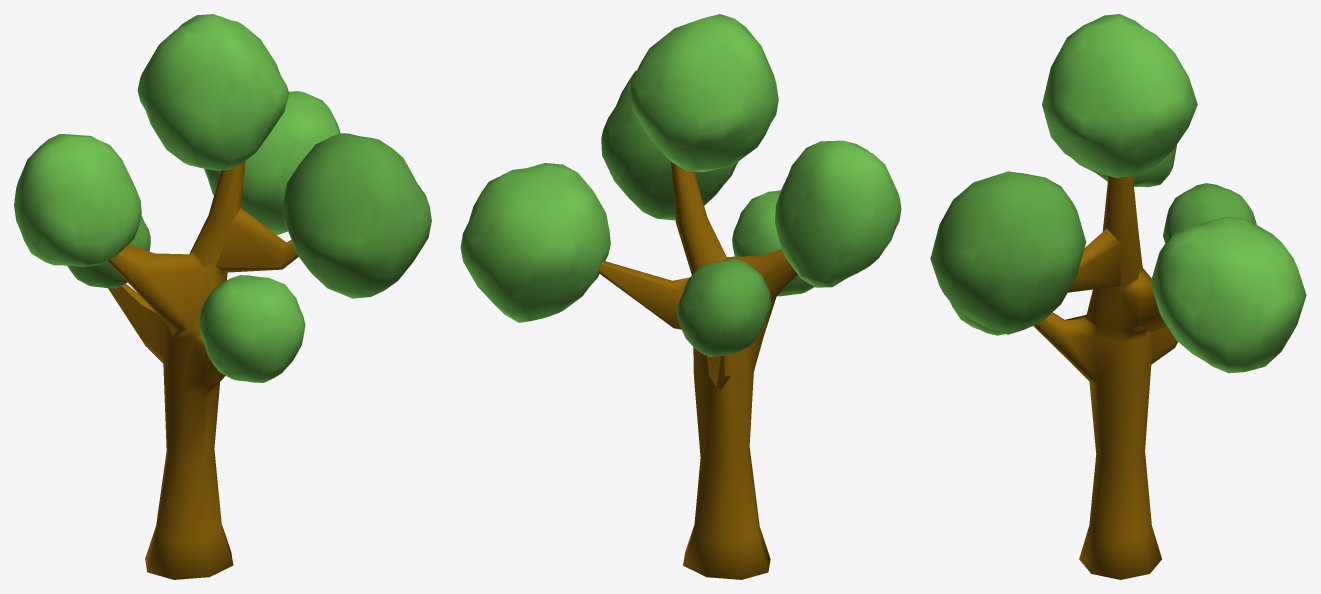
File: tree_2_2_base.fbx
3 renders of one model, left to right at view 1: azimuth 30°, elevation 25°; view 2: azimuth 150°, elevation 25°; view 3: azimuth 270°, elevation 25°, orthographic. The views are drawn at different scales.
Parts seen in each view (by area): view 1: pCylinder1, pCube1, pCube5, pCube3, pCube4, pCube2, pCube6; view 2: pCylinder1, pCube2, pCube5, pCube3, pCube6, pCube1, pCube4; view 3: pCylinder1, pCube1, pCube5, pCube2, pCube6, pCube3.
Boxes of the visible parts, bbox=[...] form: pCylinder1: bbox=[107, 161, 298, 579]; pCube1: bbox=[282, 133, 431, 298]; pCube5: bbox=[137, 14, 289, 170]; pCube3: bbox=[14, 134, 141, 267]; pCube4: bbox=[199, 275, 305, 382]; pCube2: bbox=[204, 91, 340, 235]; pCube6: bbox=[67, 215, 150, 288]; pCylinder1: bbox=[598, 161, 797, 579]; pCube2: bbox=[460, 163, 610, 322]; pCube5: bbox=[628, 14, 778, 171]; pCube3: bbox=[775, 140, 901, 287]; pCube6: bbox=[677, 259, 770, 356]; pCube1: bbox=[601, 70, 738, 220]; pCube4: bbox=[732, 190, 814, 296]; pCylinder1: bbox=[1033, 175, 1177, 579]; pCube1: bbox=[930, 171, 1086, 334]; pCube5: bbox=[1042, 14, 1197, 177]; pCube2: bbox=[1151, 216, 1306, 373]; pCube6: bbox=[1163, 183, 1256, 243]; pCube3: bbox=[1073, 145, 1176, 187].
Bounding box in the file's own units: 3.59 × 4.98 × 3.09.
